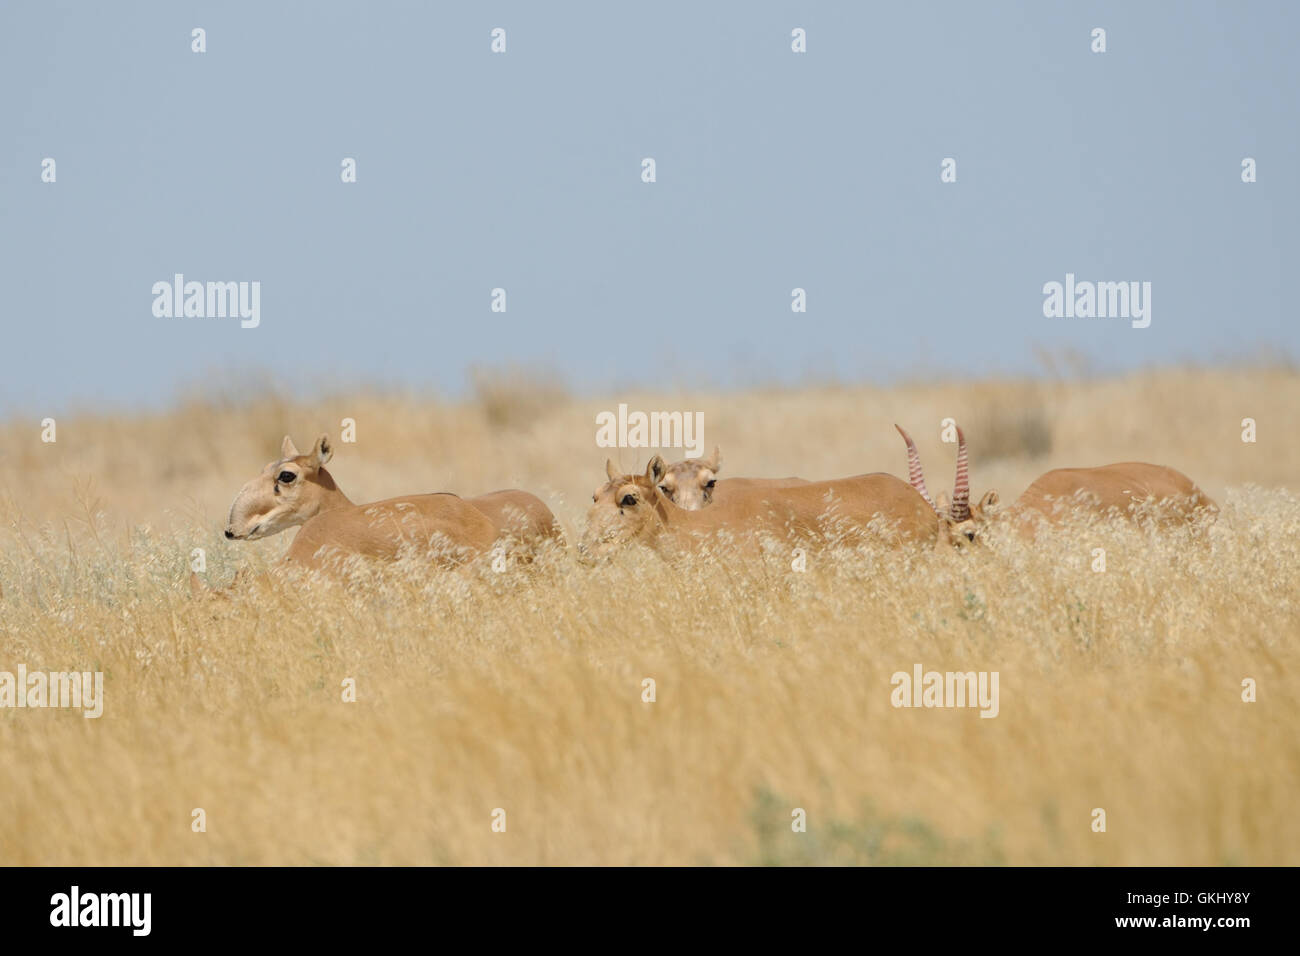saiga: (222, 438, 506, 581)
